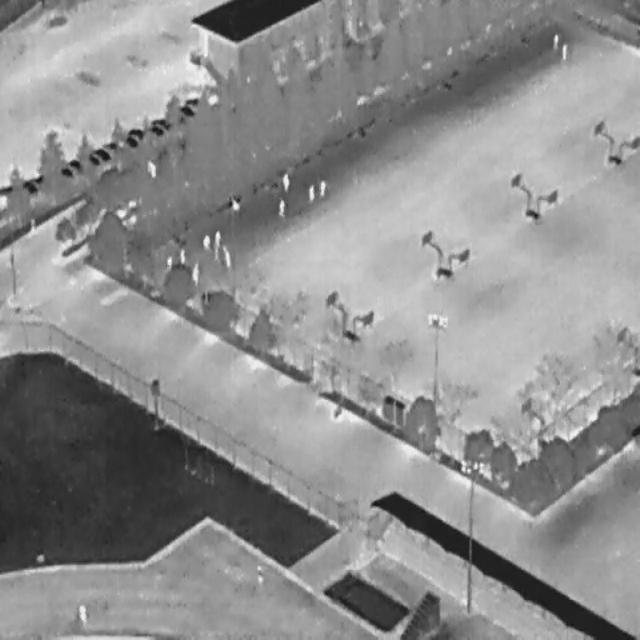Car: (19, 172, 40, 198), (91, 140, 112, 166), (55, 158, 75, 182), (177, 101, 195, 120), (150, 114, 170, 131), (33, 169, 49, 190), (85, 148, 101, 168), (146, 121, 164, 138), (122, 131, 138, 150), (65, 154, 82, 171), (126, 124, 144, 140), (185, 95, 200, 107), (103, 139, 117, 151)
Person: (220, 242, 232, 270), (212, 229, 221, 259), (191, 262, 200, 288), (253, 562, 264, 582), (280, 172, 290, 192), (77, 604, 88, 621), (559, 42, 568, 62), (230, 195, 239, 213), (306, 182, 314, 202), (277, 198, 285, 218), (178, 246, 186, 265), (318, 180, 325, 199), (202, 232, 209, 250), (164, 255, 172, 270), (552, 32, 559, 48)
